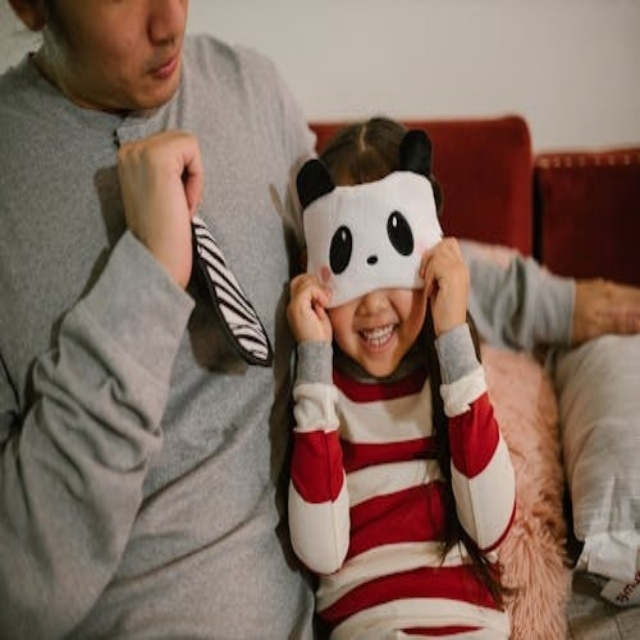Sin_guantes: (116, 127, 204, 283), (421, 229, 462, 319), (287, 267, 334, 336)
Sin_mascara: (136, 40, 186, 104), (348, 319, 399, 379)
